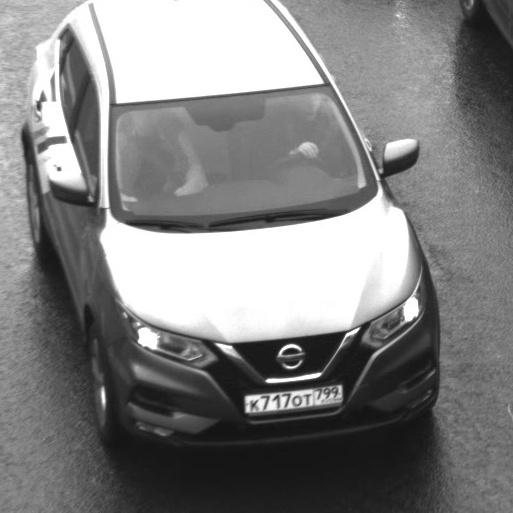plate: (234, 372, 351, 419)
